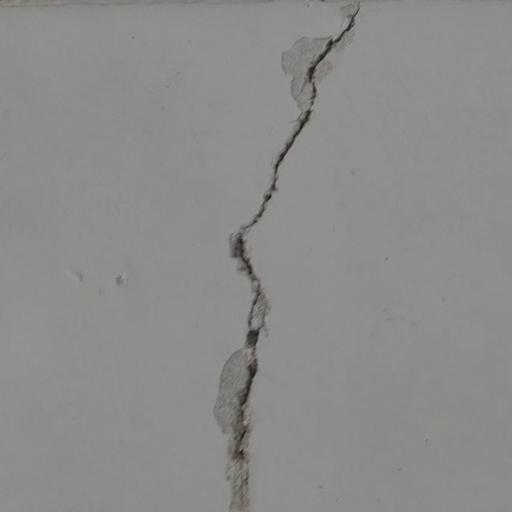major_crack: (228, 0, 377, 484)
